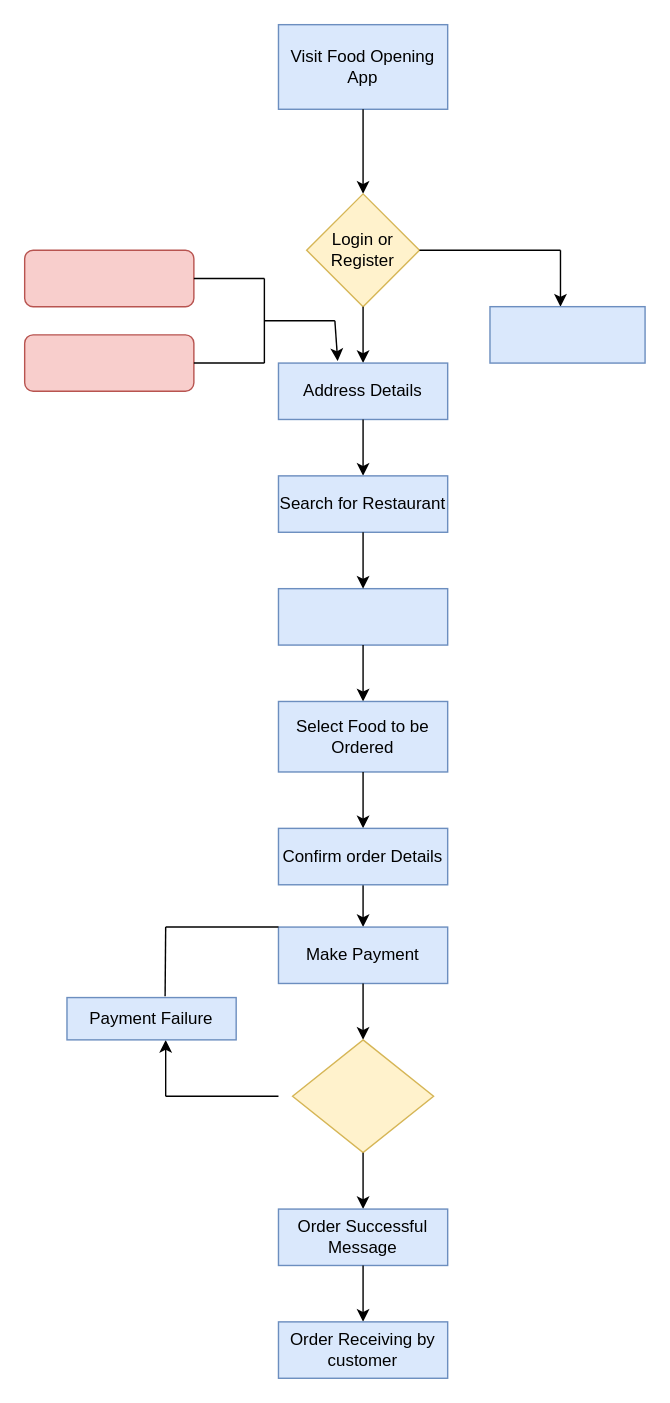
The diagram is 670 pixels wide and 1403 high, and some of its shapes have lost their labels. Each missing label, with the centre of its shape:
New Address: point 108,278
Payment Successful?: point 362,1095
Register: point 567,334
Saved Address: point 108,362
Select Restaurant: point 362,616
